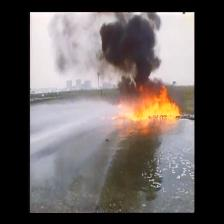fire: (136, 98, 176, 113)
smoke: (107, 20, 159, 91)
